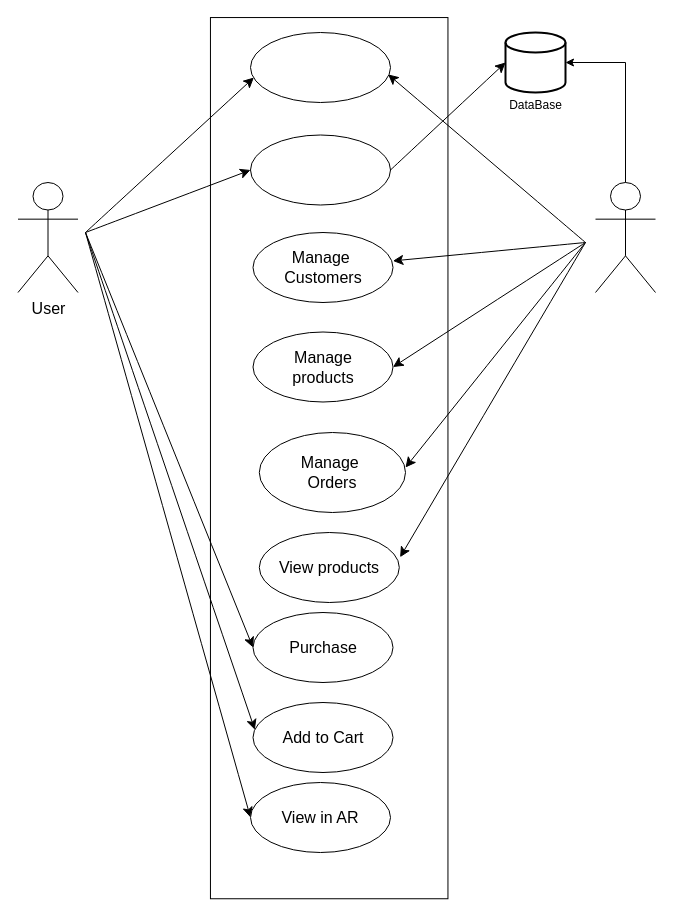
The diagram is 673 pixels wide and 917 high, and some of its shapes have lost their labels. Here are the shapes that lost their labels. From the top down, the centre of each, then its label:
the point at 320,67: Login
the point at 320,169: Search
the point at 625,237: Admin
